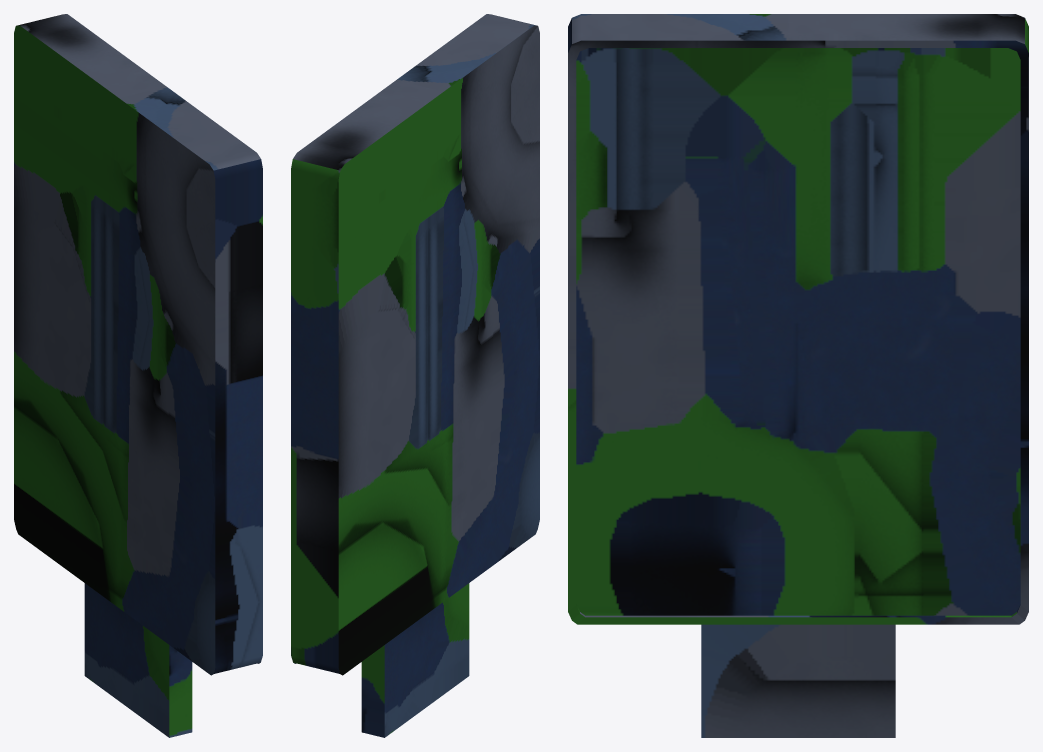
Rendered from 12_CityB_Add_Board_v1.obj.
The picture shows the model from 3 angles, left to right: view 1: azimuth 30°, elevation 25°; view 2: azimuth 150°, elevation 25°; view 3: azimuth 270°, elevation 25°; orthographic projection. The views are drawn at different scales.
Visible parts, largest first — view 1: addPoster1; view 2: addPoster1; view 3: addPoster1.
Part boxes in pixels (<box>): addPoster1: <box>14,14,262,737</box>; addPoster1: <box>291,14,539,737</box>; addPoster1: <box>568,14,1028,737</box>.
Size of the model in its own units: 0.3292 by 4.07 by 2.41.
